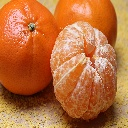orange: (50, 20, 120, 123)
